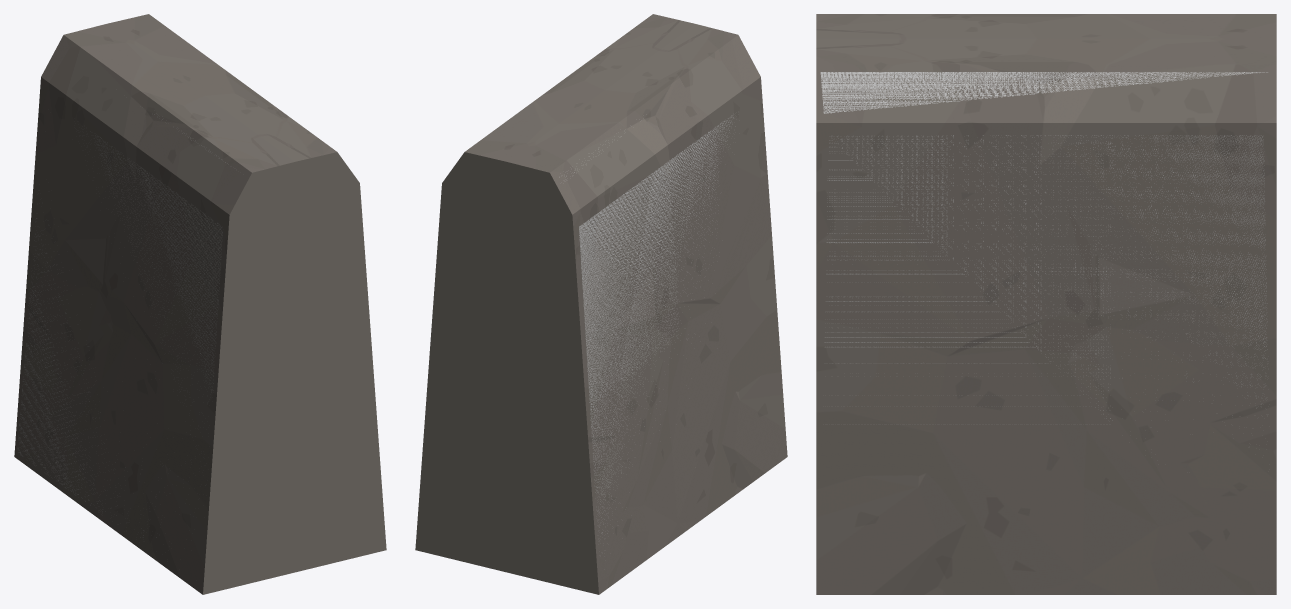
File: SM_Bld_House_Base_Wall_Half_01.fbx
3 views of the same model, side by side, from view 1: azimuth 30°, elevation 25°; view 2: azimuth 150°, elevation 25°; view 3: azimuth 270°, elevation 25° (orthographic). The views are drawn at different scales.
Parts seen in each view (by area): view 1: SM_Bld_House_Base_Wall_Half_01, SM_Bld_House_Base_Wall_Half_01_ConvexHulls; view 2: SM_Bld_House_Base_Wall_Half_01, SM_Bld_House_Base_Wall_Half_01_ConvexHulls; view 3: SM_Bld_House_Base_Wall_Half_01, SM_Bld_House_Base_Wall_Half_01_ConvexHulls.
Part boxes in pixels (<box>): SM_Bld_House_Base_Wall_Half_01: <box>14,14,386,594</box>; SM_Bld_House_Base_Wall_Half_01_ConvexHulls: <box>17,114,228,537</box>; SM_Bld_House_Base_Wall_Half_01: <box>415,14,787,594</box>; SM_Bld_House_Base_Wall_Half_01_ConvexHulls: <box>559,115,735,533</box>; SM_Bld_House_Base_Wall_Half_01: <box>816,14,1276,594</box>; SM_Bld_House_Base_Wall_Half_01_ConvexHulls: <box>820,72,1267,420</box>.
Bounding box in the file's own units: 70.31 × 125 × 150.
2 materials, 1 textured.
